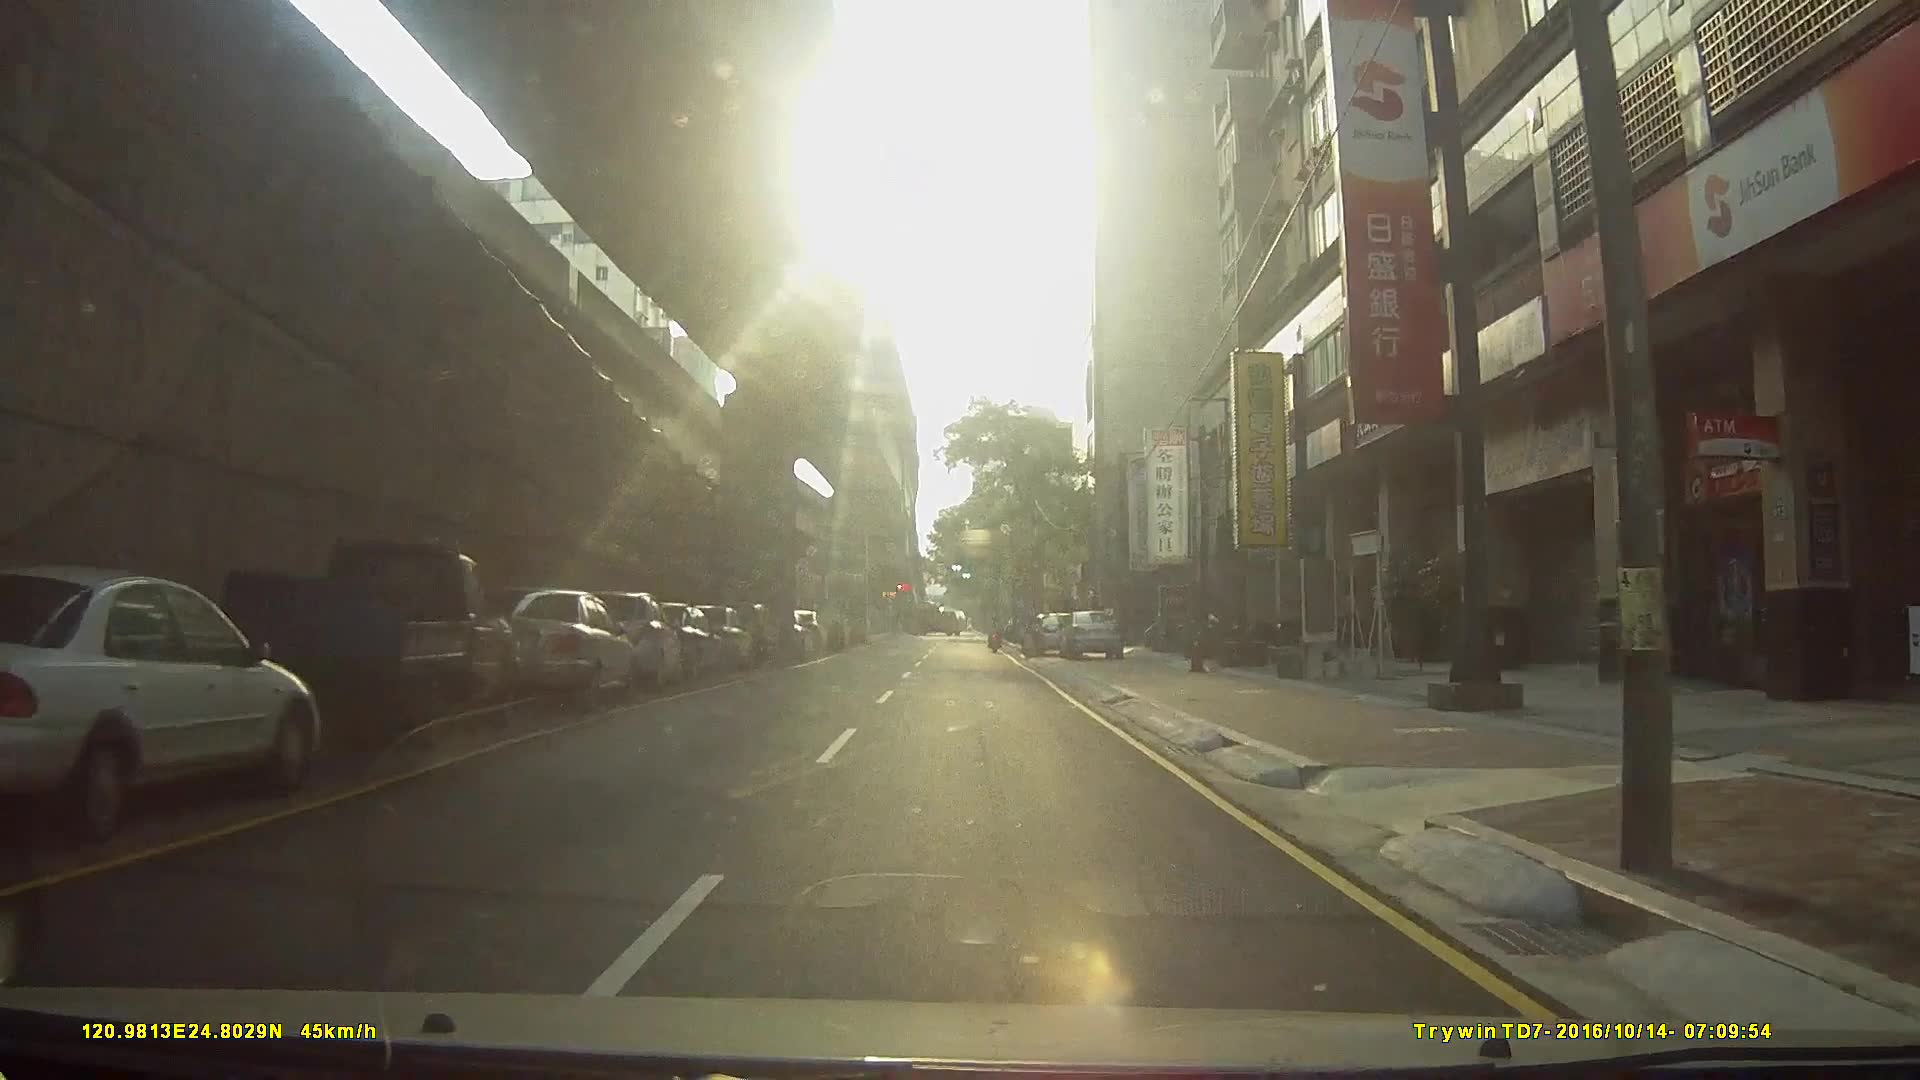vehicle: (0, 563, 323, 856), (218, 539, 520, 746), (472, 587, 640, 712), (597, 612, 729, 700), (571, 589, 684, 690), (659, 620, 794, 670), (1056, 609, 1126, 661)
